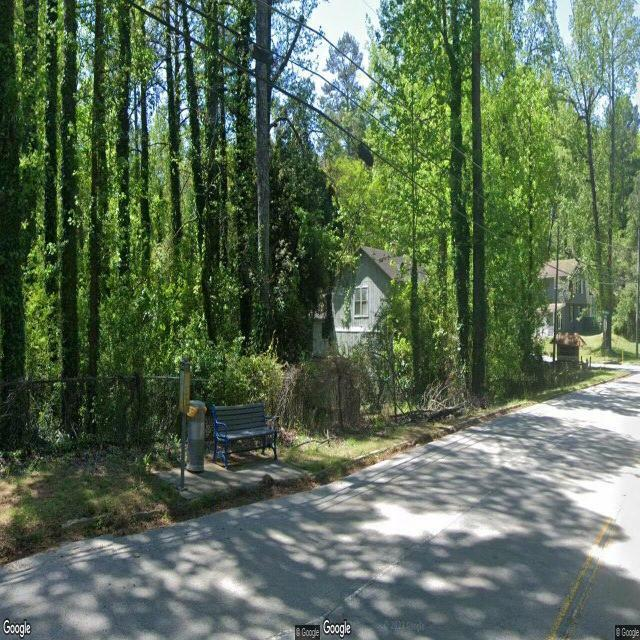seating: (212, 401, 277, 468)
trash_can: (187, 400, 205, 472)
